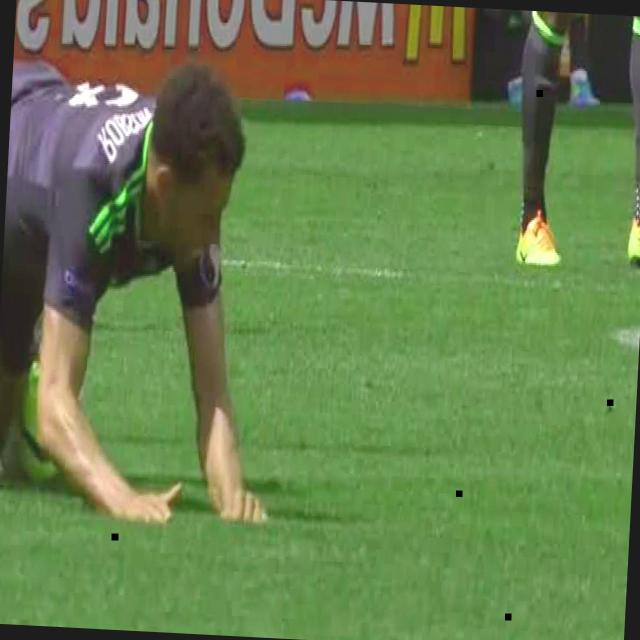player-white: (0, 42, 290, 532), (0, 0, 105, 468), (509, 10, 640, 292)
